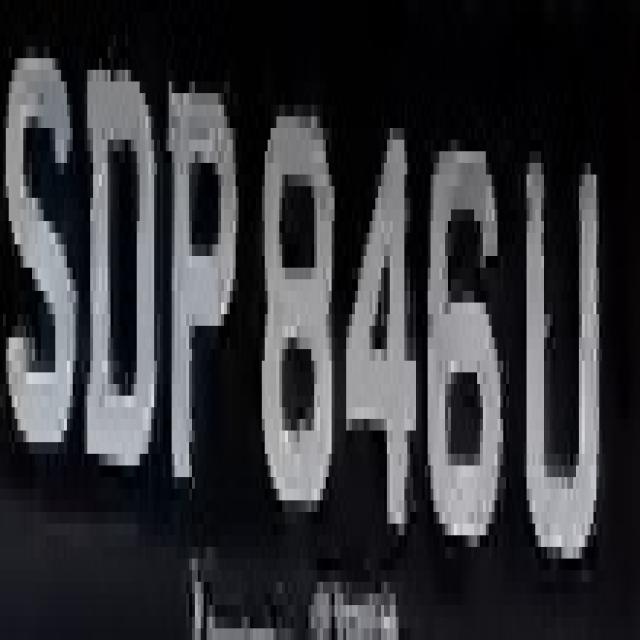4: (337, 58, 419, 570)
6: (416, 105, 506, 582)
8: (256, 58, 337, 500)
D: (81, 35, 163, 512)
P: (163, 58, 238, 559)
S: (5, 0, 76, 489)
U: (515, 105, 605, 570)
